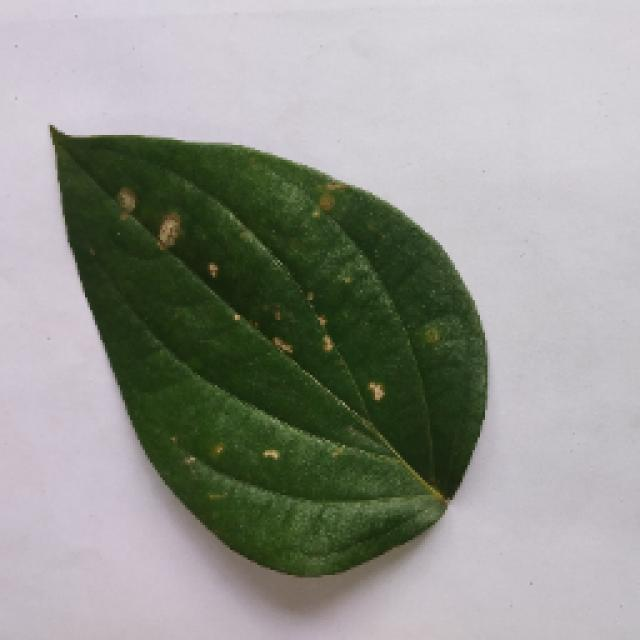pollu-disease: (40, 138, 502, 590)
